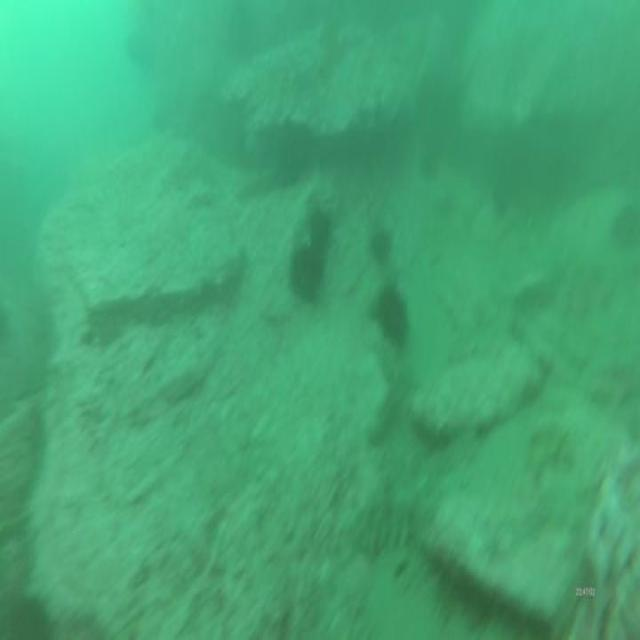echinus: (372, 280, 410, 348), (287, 242, 327, 306), (4, 589, 54, 640), (306, 204, 336, 256), (367, 220, 395, 267)
